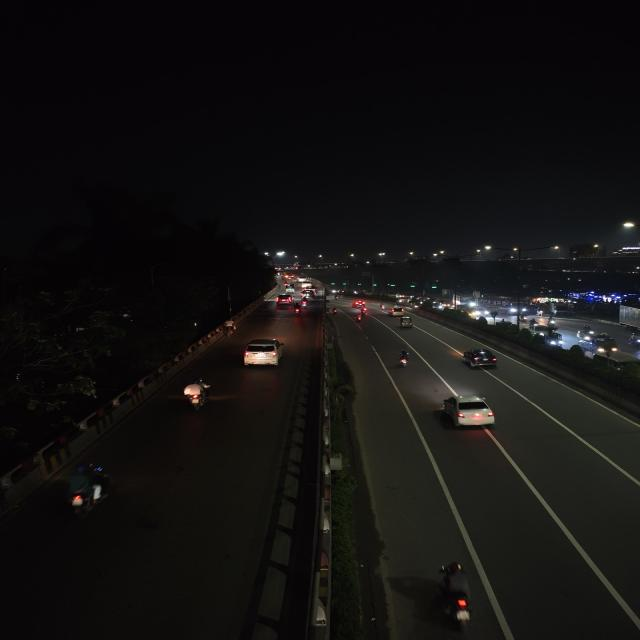bus: (494, 299, 526, 316)
car: (438, 393, 499, 433), (240, 336, 288, 368), (460, 347, 501, 370), (540, 330, 564, 348), (275, 293, 294, 305), (387, 306, 406, 316), (302, 288, 318, 298), (351, 299, 365, 309)
cng: (398, 315, 415, 329), (284, 282, 297, 292)
motorcycle: (430, 558, 480, 632), (60, 462, 114, 518), (180, 377, 216, 414), (393, 348, 415, 370), (352, 312, 364, 324), (292, 303, 302, 316), (300, 296, 310, 306), (330, 306, 341, 315), (378, 304, 386, 310)
pickup_van: (578, 333, 618, 355)
truck: (614, 304, 640, 332)
